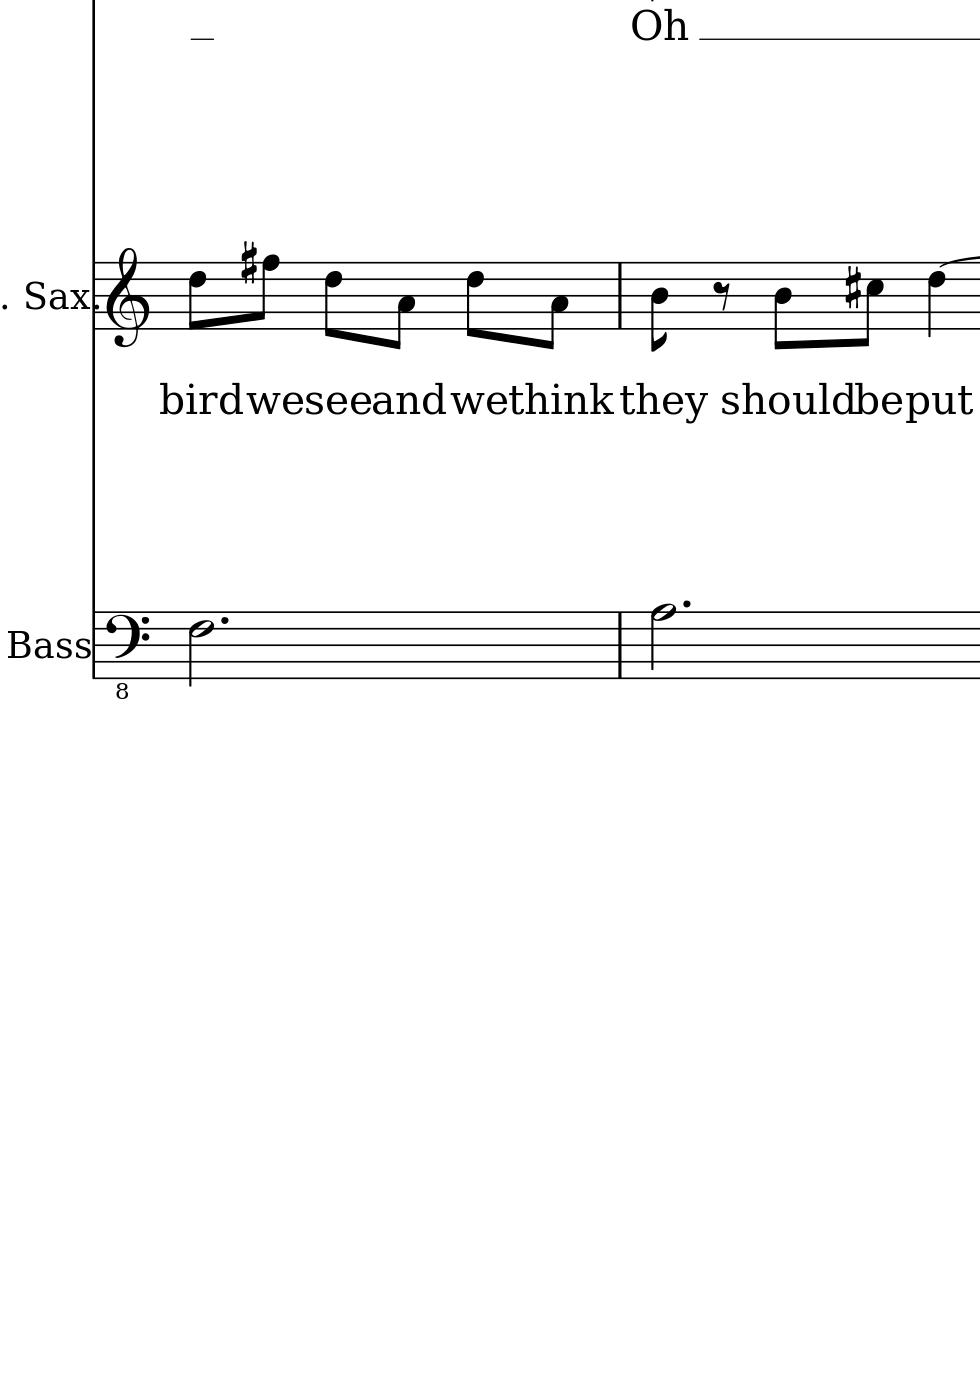2_6: (186, 610, 215, 690)
2_8: (649, 602, 676, 681)
4_6: (925, 260, 948, 338)
8_3: (384, 259, 415, 350), (538, 259, 568, 350)
8_4: (647, 260, 671, 354), (772, 260, 793, 353)
8_5: (858, 260, 885, 348)
8_6: (463, 260, 486, 341), (186, 260, 210, 332), (322, 259, 343, 340)
8_8: (252, 253, 280, 329)
Bass: (4, 626, 89, 663)
Gclef: (105, 244, 153, 350)
Lower_Fclef: (103, 609, 150, 701)
Rests8: (710, 279, 734, 313)
Sax: (22, 274, 89, 315)
Sharp: (237, 238, 259, 286), (843, 263, 862, 310)
Single_barline: (611, 262, 628, 329), (612, 612, 629, 678), (88, 262, 103, 332), (88, 612, 101, 679)
dot: (679, 598, 692, 610), (218, 614, 230, 627)
